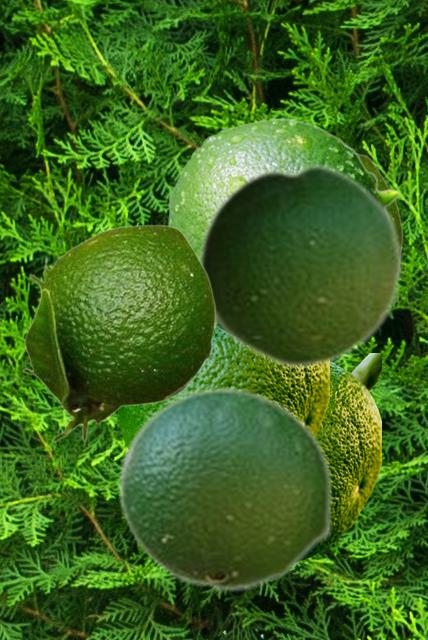dalandan: (167, 117, 400, 334), (117, 386, 333, 592), (196, 160, 403, 370), (21, 224, 215, 442), (116, 327, 328, 447), (303, 353, 380, 561), (359, 153, 402, 244)
